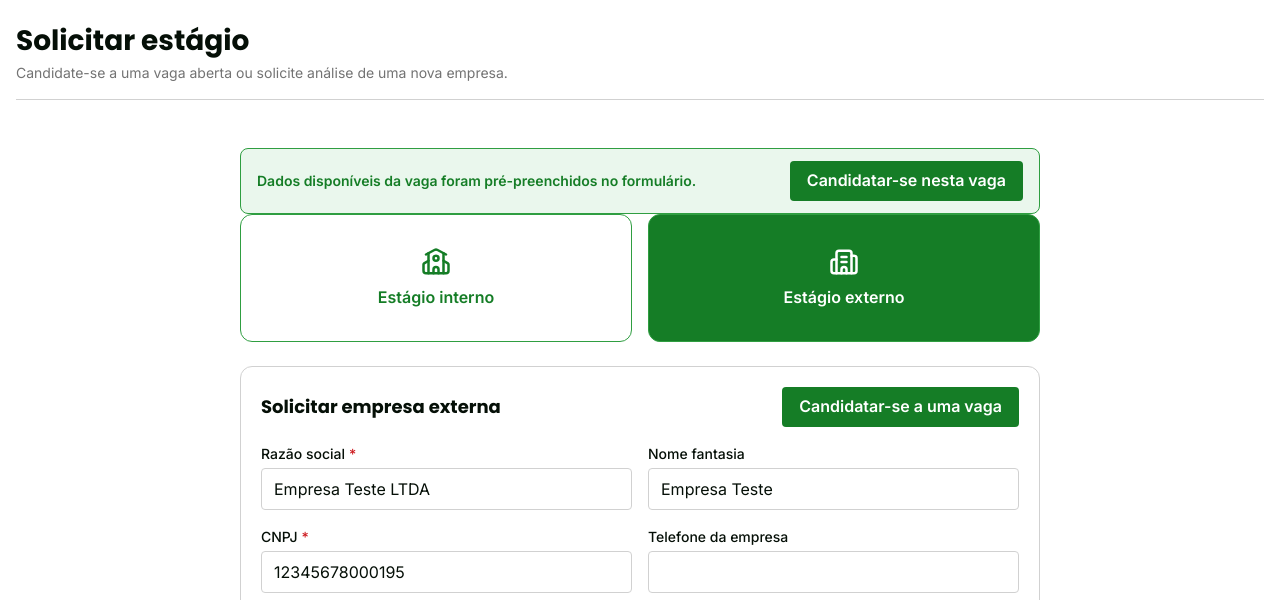
SolicitarEstagio › ao navegar para aba interna, o banner de vaga permanece visível
This screenshot has width=1280, height=600.
What coordinates should you click on to do the following:
click the button "Estágio interno"
I would click on:
 (436, 278)
Its box is [240, 214, 632, 342].
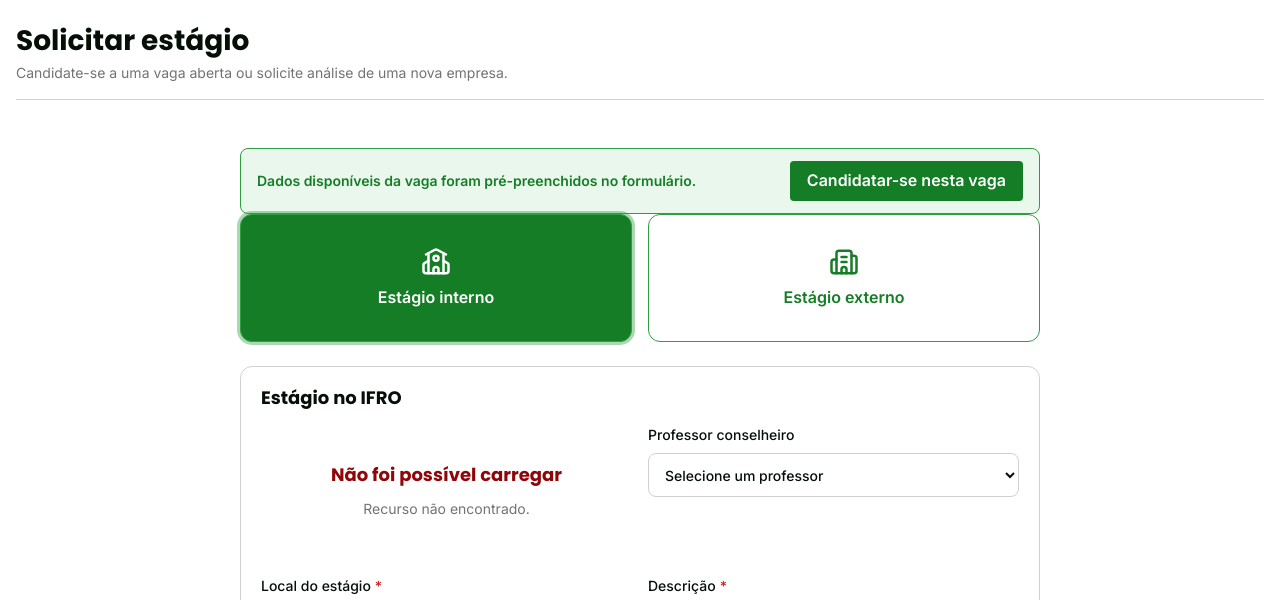
Expected: the text "Dados disponíveis da vaga foram pré-preenchidos" is shown, [257, 172, 696, 189]
Expected: the dropdown labelled "Professor conselheiro" is shown, [648, 453, 1019, 497]
